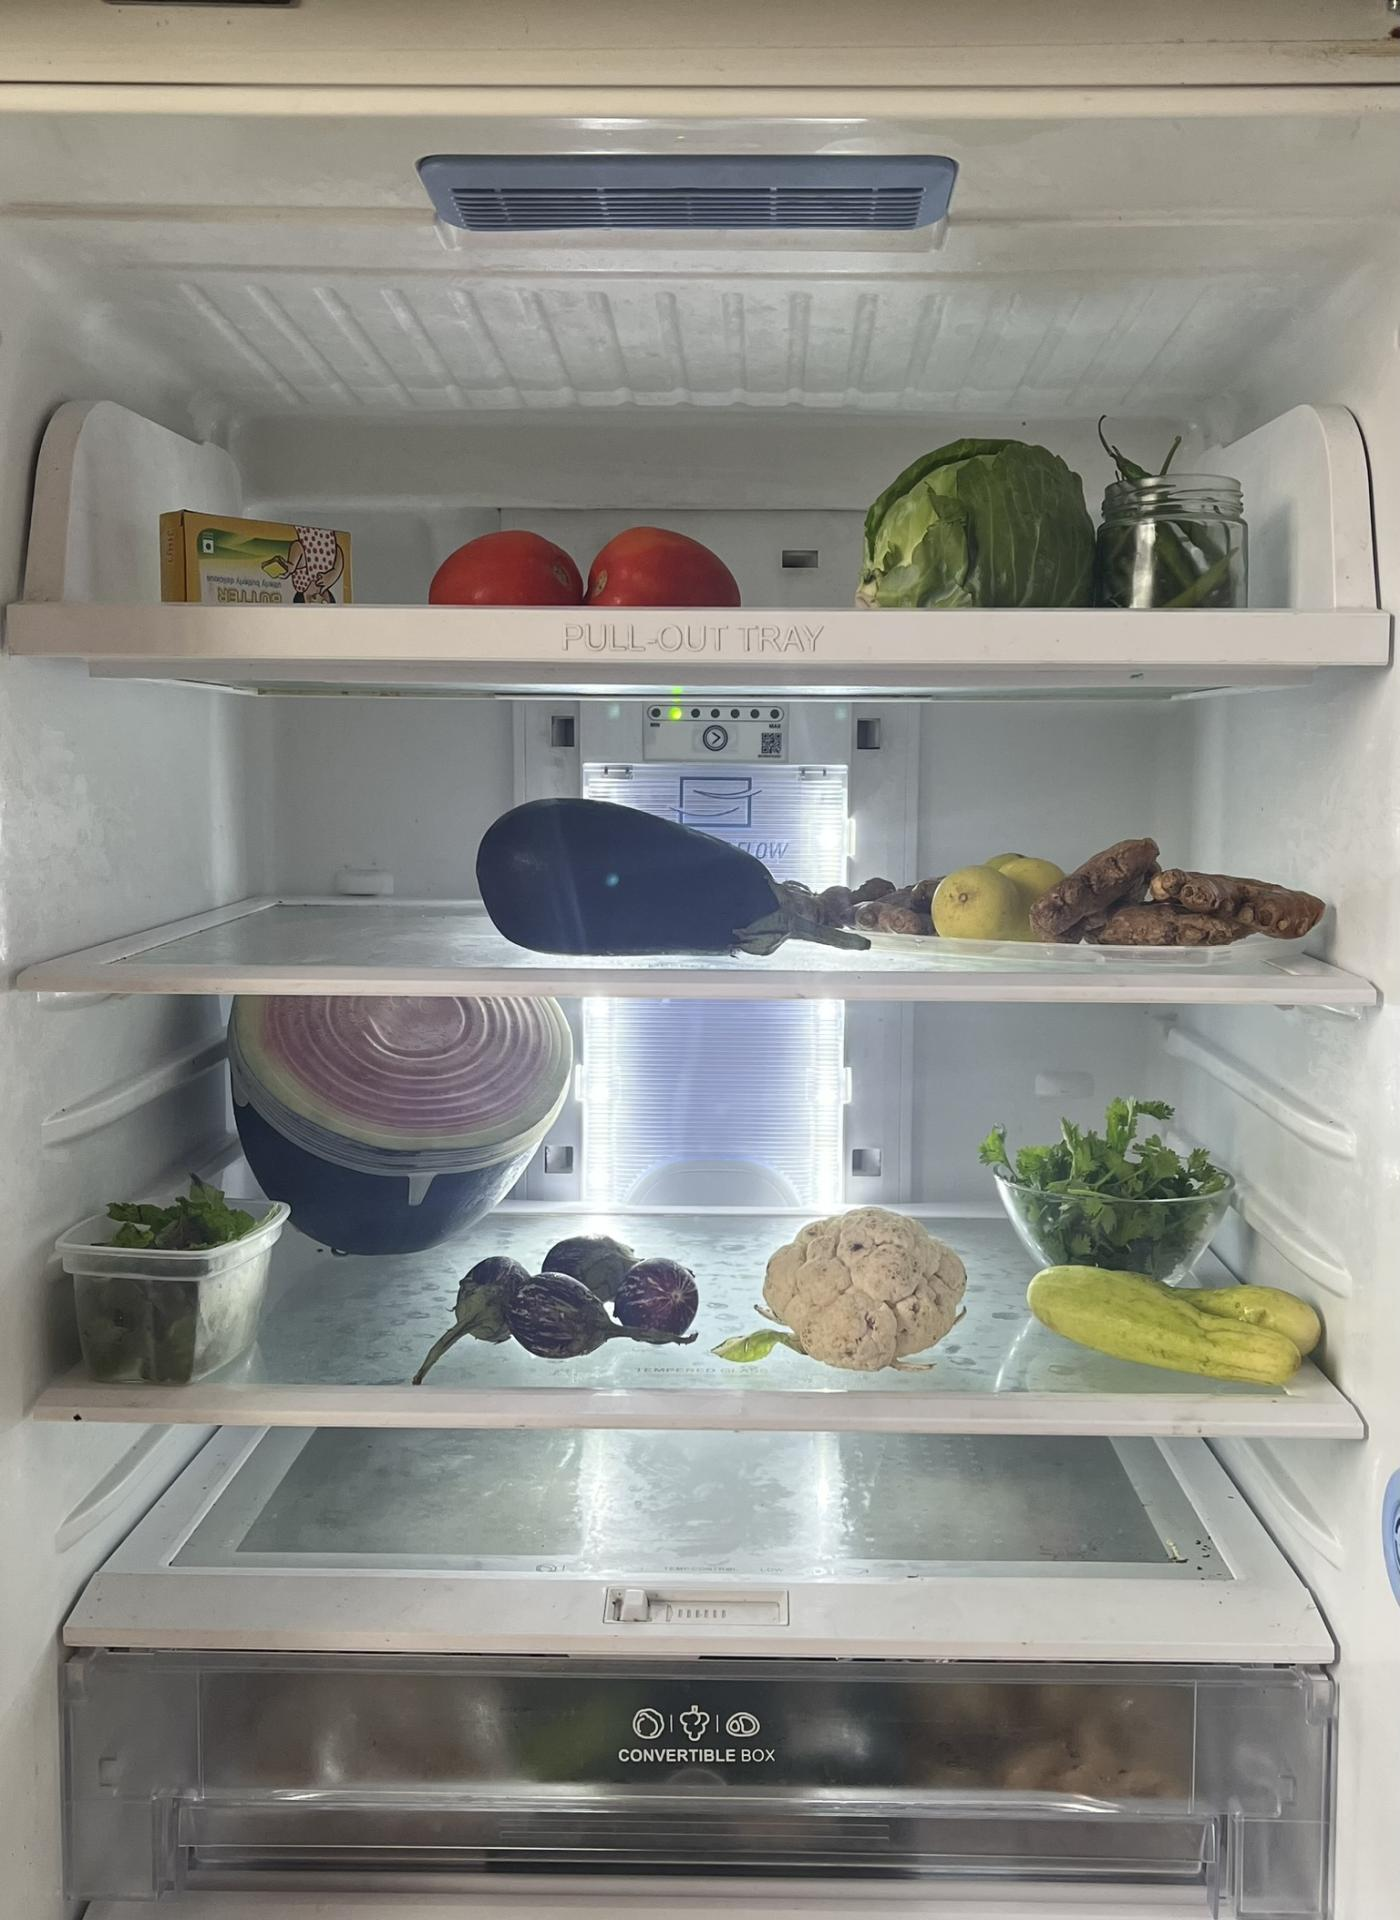basil: (75, 1178, 289, 1368)
brinjal: (467, 796, 830, 953), (423, 1228, 714, 1361)
butter: (154, 498, 353, 607)
cabbage: (857, 435, 1102, 604)
carrots: (1044, 835, 1334, 950)
cauliflower: (735, 1197, 968, 1371)
chillies: (1094, 428, 1254, 617)
coriander: (986, 1090, 1236, 1272)
cucumber: (1020, 1257, 1322, 1382)
ginger: (793, 866, 948, 947)
lemon: (932, 847, 1068, 947)
tomato: (429, 516, 590, 608), (577, 517, 741, 607)
watermelon: (216, 1003, 570, 1263)
